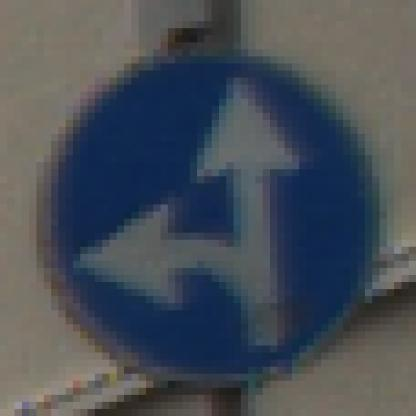Straight or Left: (38, 36, 373, 382)
